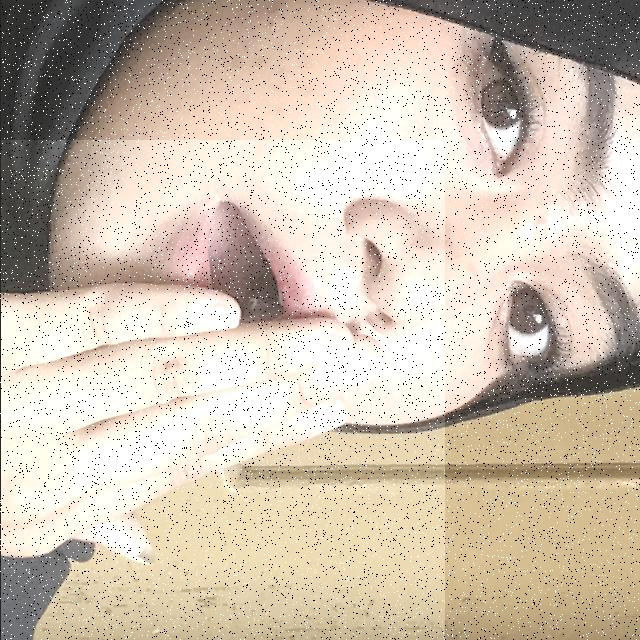ngantuk: (0, 140, 444, 640)
